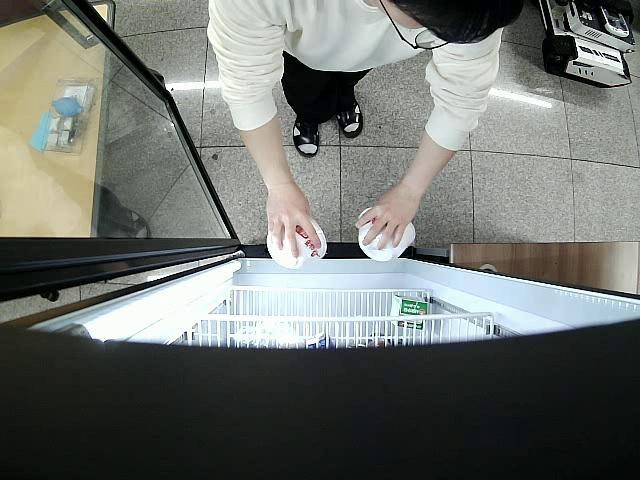09_yukGaeJang: (266, 216, 326, 269), (356, 208, 415, 261)
